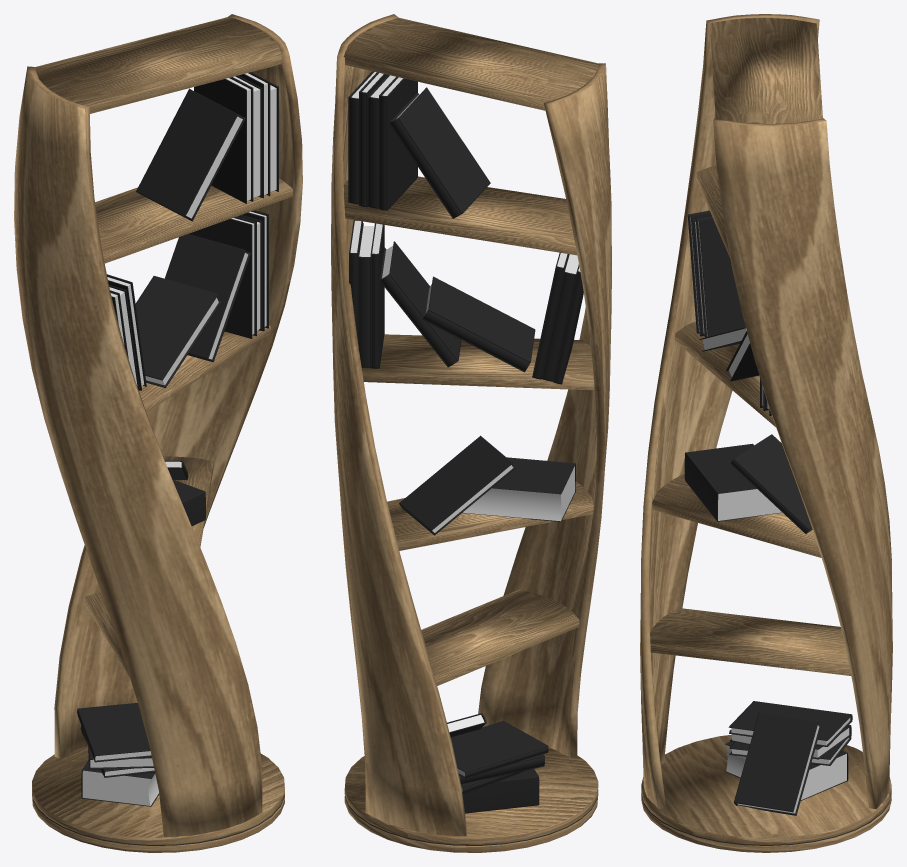
Rendered from abstract_book_shelf.glb.
The picture shows the model from 3 angles, left to right: view 1: azimuth 30°, elevation 25°; view 2: azimuth 150°, elevation 25°; view 3: azimuth 270°, elevation 25°; orthographic projection.
Parts seen in each view (by area): view 1: Plane_6, Plane.001_7, Cylinder.002_1, Cylinder_0, Cube.005_16, Cylinder.003_2, Cube.012_21, Cube.011_20, Cube.003_14, Cube.017_9, Cube.009_19, Cylinder.004_3 (+12 smaller); view 2: Plane.001_7, Plane_6, Cylinder.002_1, Cylinder_0, Cylinder.003_2, Cylinder.006_5, Cylinder.004_3, Cube.005_16, Cube.012_21, Cube.016_25, Leather Book.001_27, Cylinder.005_4 (+15 smaller); view 3: Plane.001_7, Plane_6, Cylinder_0, Cylinder.002_1, Cylinder.006_5, Cube.007_11, Leather Book.001_27, Cylinder.005_4, Cube.013_23, Cube.016_25, Cylinder.004_3, Cube.017_9 (+7 smaller).
Boxes of the visible parts, bbox=[...] form: Plane_6: bbox=[14, 66, 262, 837]; Plane.001_7: bbox=[54, 14, 302, 758]; Cylinder.002_1: bbox=[35, 17, 283, 113]; Cylinder_0: bbox=[32, 746, 284, 852]; Cube.005_16: bbox=[136, 88, 245, 221]; Cylinder.003_2: bbox=[95, 178, 293, 263]; Cube.012_21: bbox=[135, 276, 221, 388]; Cube.011_20: bbox=[165, 234, 250, 362]; Cube.003_14: bbox=[194, 77, 253, 203]; Cube.017_9: bbox=[77, 703, 151, 762]; Cube.009_19: bbox=[188, 216, 256, 338]; Cylinder.004_3: bbox=[139, 325, 270, 412]; Plane.001_7: bbox=[331, 14, 467, 836]; Plane_6: bbox=[478, 63, 611, 757]; Cylinder.002_1: bbox=[343, 17, 598, 110]; Cylinder_0: bbox=[344, 747, 598, 852]; Cylinder.003_2: bbox=[343, 176, 577, 255]; Cylinder.006_5: bbox=[421, 589, 579, 685]; Cylinder.004_3: bbox=[361, 334, 594, 390]; Cube.005_16: bbox=[389, 87, 490, 218]; Cube.012_21: bbox=[422, 276, 535, 372]; Cube.016_25: bbox=[399, 435, 515, 535]; Leather Book.001_27: bbox=[462, 457, 575, 521]; Cylinder.005_4: bbox=[387, 481, 593, 550]; Plane.001_7: bbox=[713, 118, 892, 809]; Plane_6: bbox=[640, 14, 819, 808]; Cylinder_0: bbox=[641, 734, 891, 852]; Cylinder.002_1: bbox=[710, 18, 822, 123]; Cylinder.006_5: bbox=[650, 608, 851, 675]; Cube.007_11: bbox=[733, 712, 821, 815]; Leather Book.001_27: bbox=[684, 443, 782, 521]; Cylinder.005_4: bbox=[652, 474, 821, 557]; Cube.013_23: bbox=[695, 216, 745, 337]; Cube.016_25: bbox=[730, 434, 812, 533]; Cylinder.004_3: bbox=[675, 321, 775, 426]; Cube.017_9: bbox=[728, 701, 852, 746].
Bounding box in the file's own units: 0.6961 × 1.89 × 0.593.
Materials: 6 (3 with a texture image).
